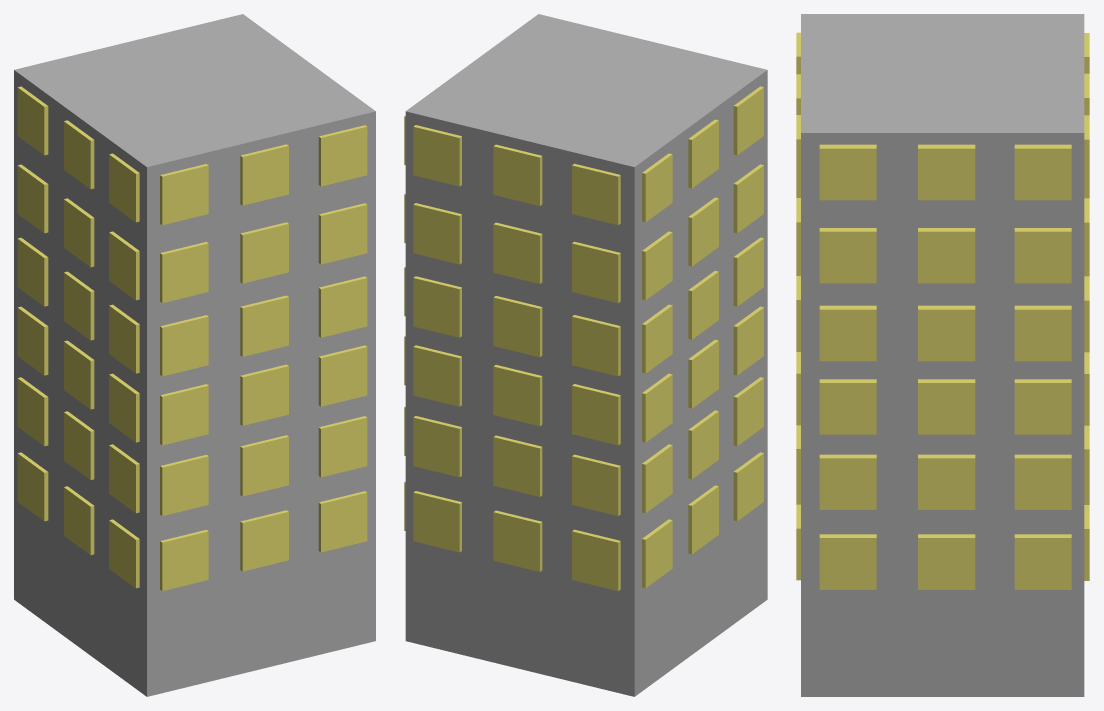
Rendered from Skyscrapper 1.fbx.
3 views of the same model, side by side, from view 1: azimuth 30°, elevation 25°; view 2: azimuth 150°, elevation 25°; view 3: azimuth 270°, elevation 25° (orthographic). The views are drawn at different scales.
Visible parts, largest first — view 1: Cube.054; view 2: Cube.054; view 3: Cube.054.
Boxes of the visible parts, x1,y1,x2,y2 form: Cube.054: (14,14,375,696); Cube.054: (404,14,767,696); Cube.054: (796,14,1089,696).
Size of the model in its own units: 700 by 1477 by 696.
